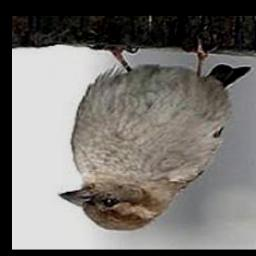Sparrow: (59, 36, 253, 232)
